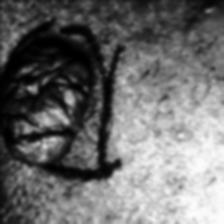Unclassified: (0, 28, 122, 183)
